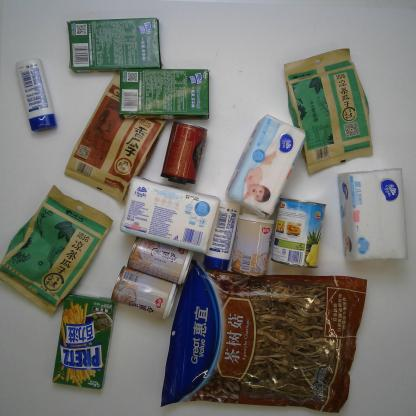Canned Food: (271, 192, 332, 272), (156, 112, 214, 188), (122, 232, 199, 287), (108, 265, 180, 322), (226, 209, 274, 284)
Dessert: (50, 294, 118, 394), (62, 12, 168, 74), (113, 63, 216, 123)
Dried Food: (160, 262, 371, 410), (3, 181, 119, 322), (57, 80, 169, 207), (280, 46, 386, 178)
Personal Hygiene: (10, 58, 64, 137), (202, 196, 246, 275)
Tissue: (224, 111, 311, 222), (118, 172, 224, 259), (334, 162, 414, 265)
